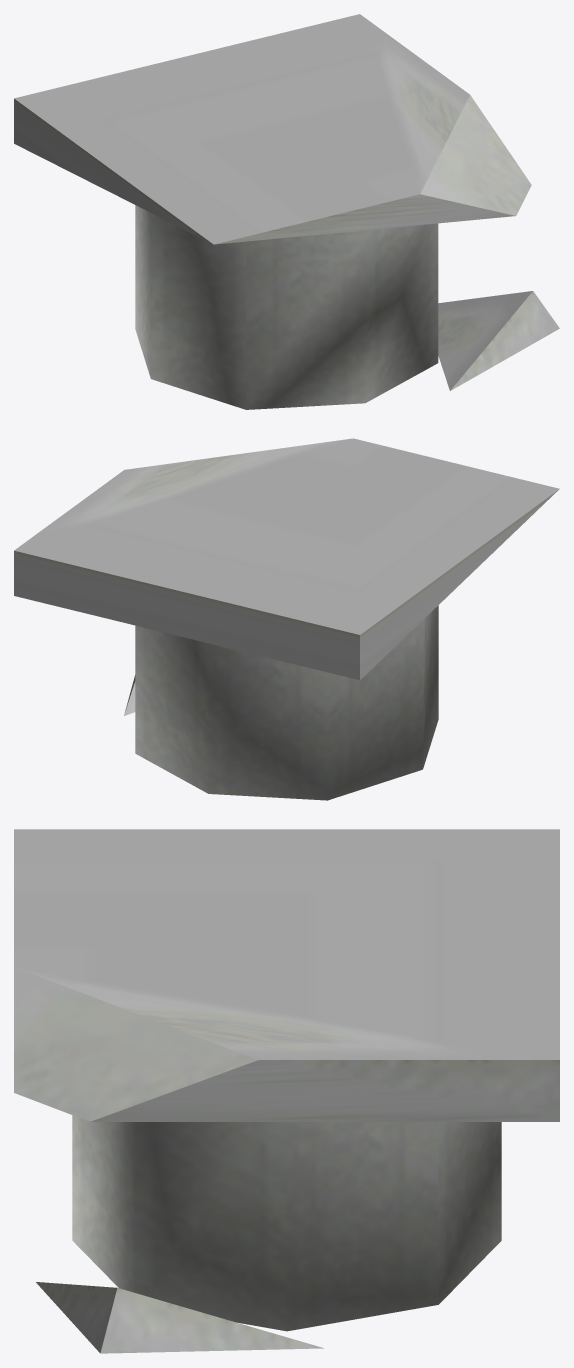
File: general_obj_bigtower12_lod_01.fbx
3 renders of one model, top to bottom at view 1: azimuth 30°, elevation 25°; view 2: azimuth 150°, elevation 25°; view 3: azimuth 270°, elevation 25°, orthographic. The views are drawn at different scales.
Visible parts, largest first — view 1: Sphere01; view 2: Sphere01; view 3: Sphere01.
Part boxes in pixels (left/top/right/bottom): Sphere01: left=14, top=14, right=559, bottom=409; Sphere01: left=14, top=438, right=559, bottom=800; Sphere01: left=14, top=829, right=559, bottom=1353.
Size of the model in its own units: 4.37 by 2.46 by 4.
